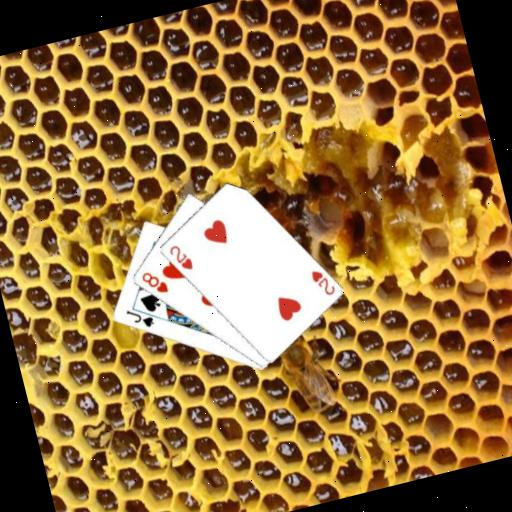2H: (164, 239, 195, 276), (306, 264, 337, 301)
8H: (137, 265, 170, 300)
JS: (122, 301, 157, 334)
